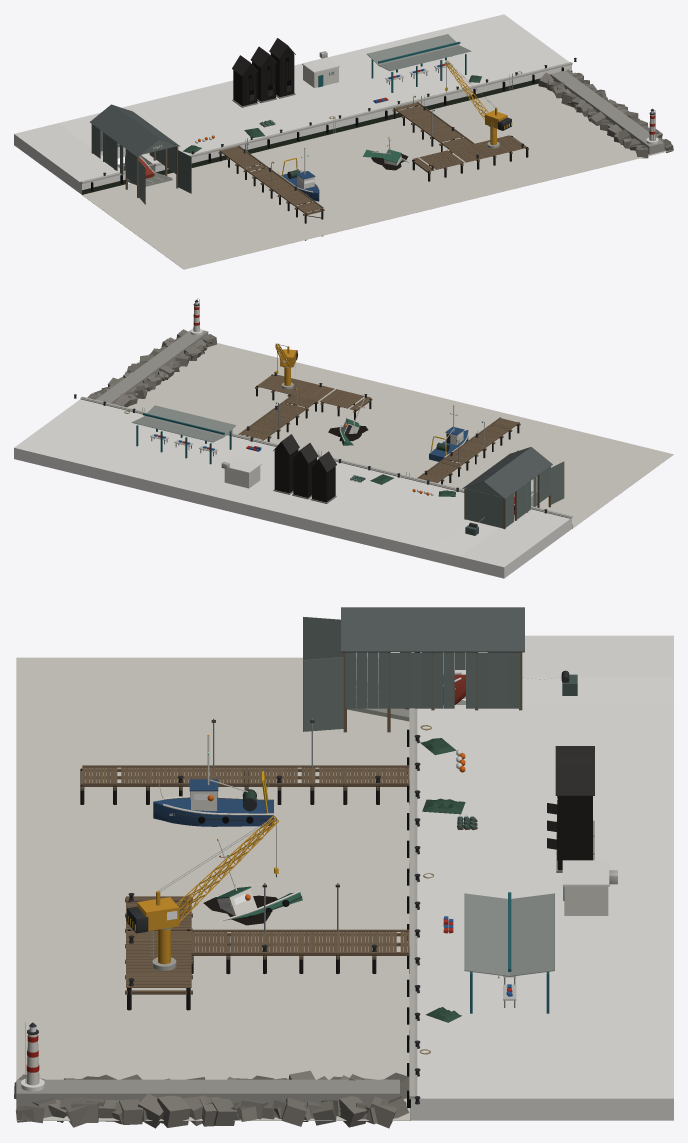
Rendered from fishing-wharf.glb.
The picture shows the model from 3 angles, top to bottom: view 1: azimuth 30°, elevation 25°; view 2: azimuth 150°, elevation 25°; view 3: azimuth 270°, elevation 25°; orthographic projection. The views are drawn at different scales.
Parts seen in each view (by area): view 1: C0_-1_lod0, C0_0_lod0, C-2_0_lod0, C-1_0_lod0, C1_-1_lod0, C-1_-1_lod0, C1_0_lod0; view 2: C0_-1_lod0, C0_0_lod0, C-2_0_lod0, C-1_0_lod0, C1_-1_lod0, C-1_-1_lod0, C-2_-1_lod0; view 3: C0_-1_lod0, C0_0_lod0, C-1_0_lod0, C1_-1_lod0, C-1_-1_lod0, C-2_0_lod0, C1_0_lod0, C-2_-1_lod0.
Part boxes in pixels (x1,y1,x2,y2): C0_-1_lod0: [82, 61, 673, 269]; C0_0_lod0: [80, 14, 572, 182]; C-2_0_lod0: [14, 104, 158, 197]; C-1_0_lod0: [58, 38, 311, 188]; C1_-1_lod0: [550, 70, 673, 158]; C-1_-1_lod0: [153, 143, 324, 240]; C1_0_lod0: [517, 57, 589, 93]; C0_-1_lod0: [127, 343, 673, 528]; C0_0_lod0: [14, 396, 570, 560]; C-2_0_lod0: [460, 447, 572, 578]; C-1_0_lod0: [273, 434, 537, 567]; C1_-1_lod0: [96, 298, 216, 405]; C-1_-1_lod0: [417, 405, 520, 482]; C-2_-1_lod0: [551, 461, 564, 504]; C0_-1_lod0: [16, 657, 410, 1120]; C0_0_lod0: [203, 705, 673, 1120]; C-1_0_lod0: [341, 607, 673, 872]; C1_-1_lod0: [14, 1022, 399, 1128]; C-1_-1_lod0: [80, 657, 409, 826]; C-2_0_lod0: [341, 607, 673, 699]; C1_0_lod0: [338, 1049, 430, 1128]; C-2_-1_lod0: [303, 617, 343, 659].
Size of what is drawn, in the model's own units: 101 by 18.7 by 60.22.
